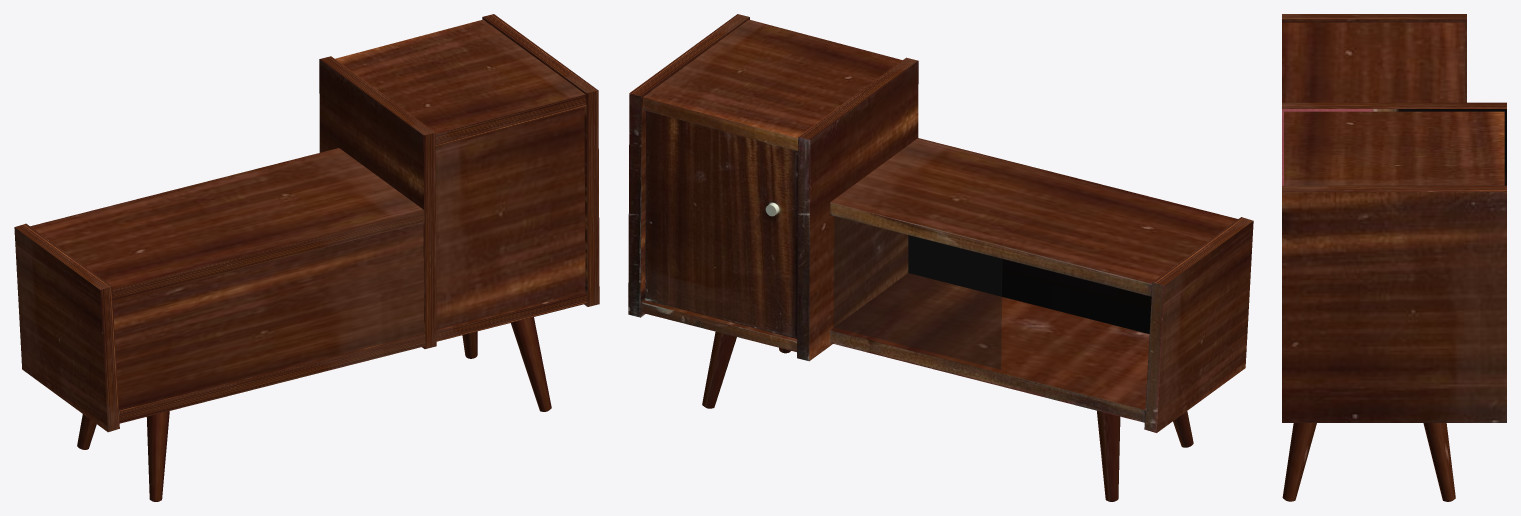
The model's file is radiola.gltf.
The picture shows the model from 3 angles, left to right: view 1: azimuth 30°, elevation 25°; view 2: azimuth 150°, elevation 25°; view 3: azimuth 270°, elevation 25°; orthographic projection. The views are drawn at different scales.
Visible parts, largest first — view 1: Body; view 2: Body; view 3: Body.
Boxes of the visible parts, bbox=[...] form: Body: bbox=[14, 14, 599, 501]; Body: bbox=[628, 14, 1253, 501]; Body: bbox=[1282, 14, 1506, 501].
Size of the model in its own units: 1.29 by 0.7665 by 0.4657.
2 materials, 1 textured.
